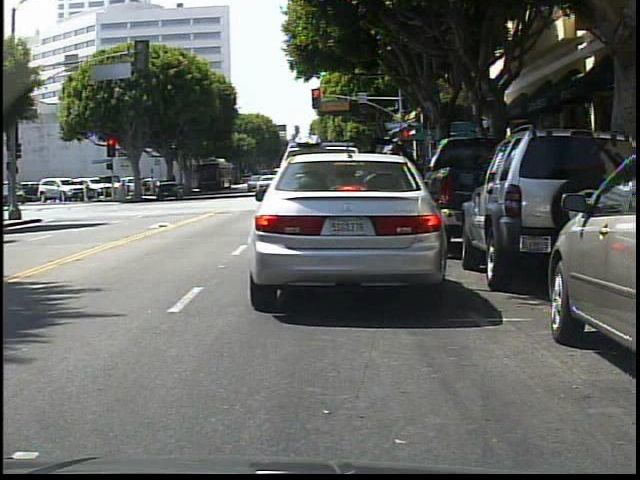person: (385, 141, 416, 245)
